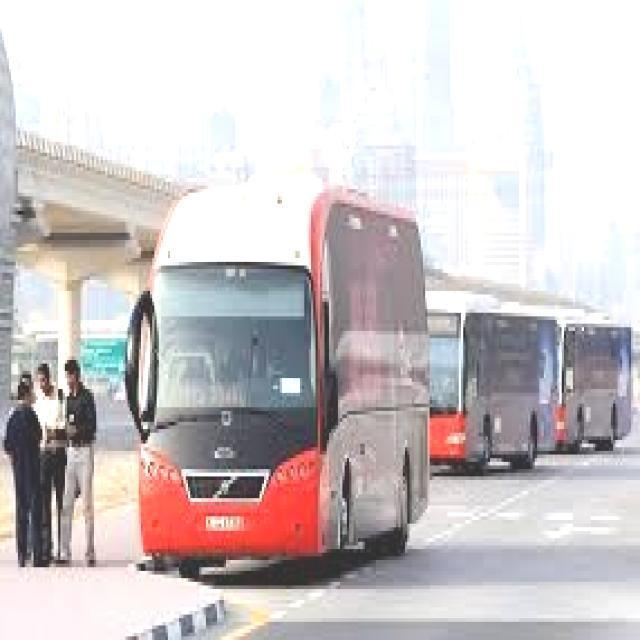Bus: (119, 153, 439, 584), (430, 267, 550, 470), (542, 298, 640, 466)
